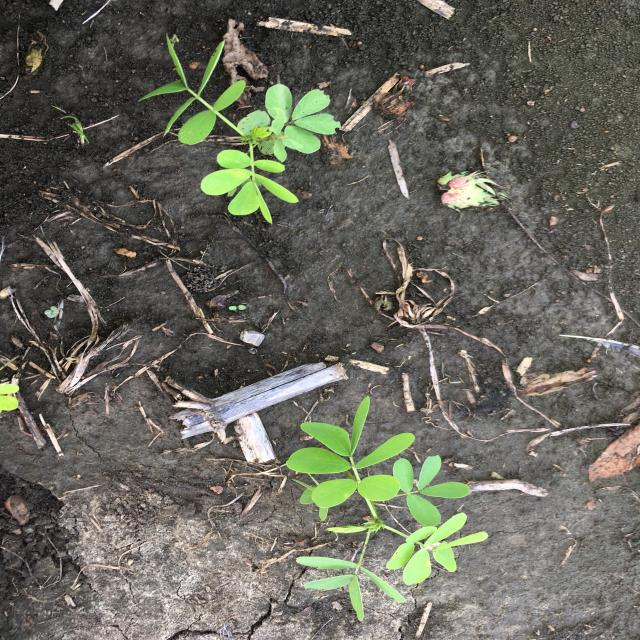Sicklepod: (286, 395, 492, 625), (136, 31, 345, 227)
